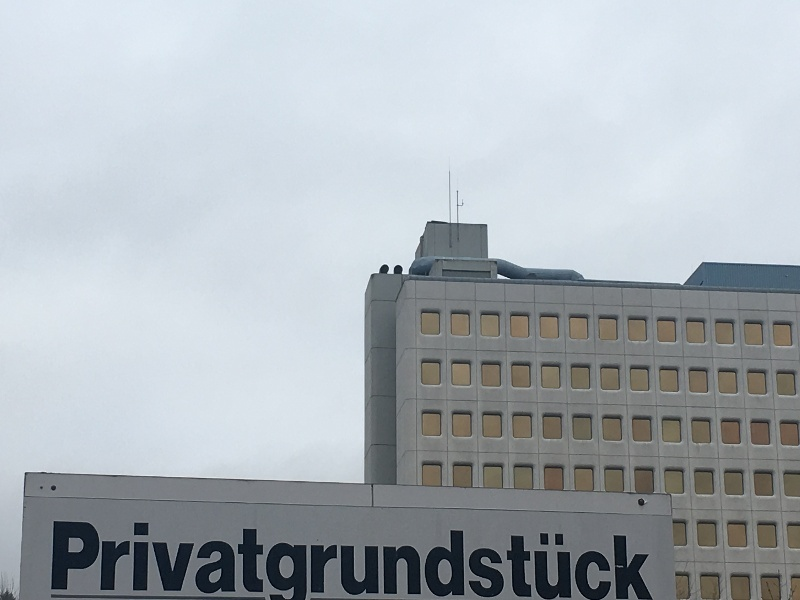text: (65, 523, 80, 600), (81, 523, 96, 600), (97, 523, 112, 600), (113, 523, 128, 600), (129, 523, 144, 600), (145, 523, 160, 600), (161, 523, 176, 600), (177, 523, 192, 600), (193, 523, 208, 600), (209, 523, 224, 600), (225, 523, 240, 600), (241, 523, 256, 600), (257, 523, 272, 600), (273, 523, 288, 600), (289, 523, 304, 600), (305, 523, 320, 600), (321, 523, 336, 600), (337, 523, 352, 600), (353, 523, 368, 600), (369, 523, 384, 600), (385, 523, 400, 600), (401, 523, 416, 600), (417, 523, 432, 600), (433, 523, 448, 600), (449, 523, 464, 600), (465, 523, 480, 600), (481, 523, 496, 600), (497, 523, 512, 600), (513, 523, 528, 600), (529, 523, 544, 600), (545, 523, 560, 600), (561, 523, 576, 600), (577, 523, 592, 600), (593, 523, 608, 600), (609, 523, 624, 600), (625, 523, 640, 600), (641, 523, 652, 600), (54, 523, 64, 600)
